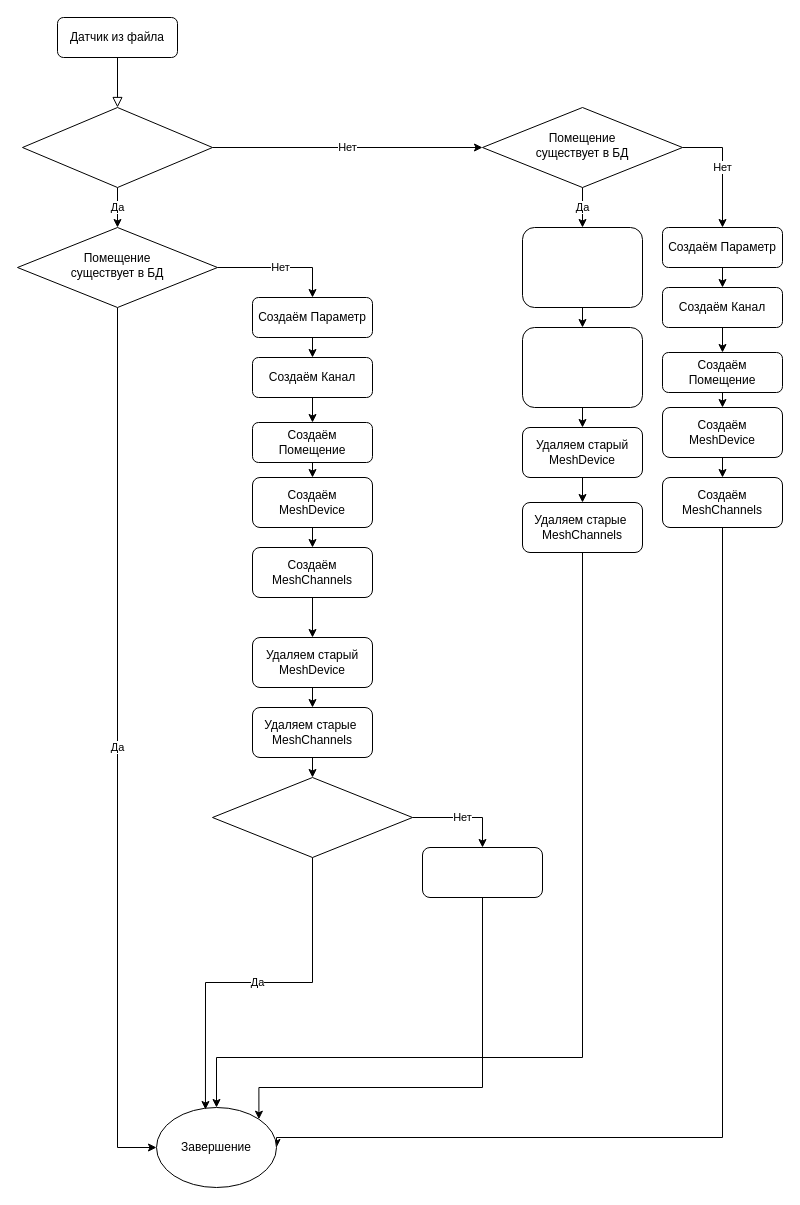
Some shapes in this 800 by 1205 pixel diagram are drawn without their labels. Here are the shapes that lost their labels. From the top down, the centre of each, then its label:
(117,147): Датчик существует в БД
(582,267): Создаём MeshDevice для существующего Room
(582,367): Создаём MeshChannels для существующих Channels
(312,817): Старое помещение есть в файле
(482,872): Удаляем старое помещение
